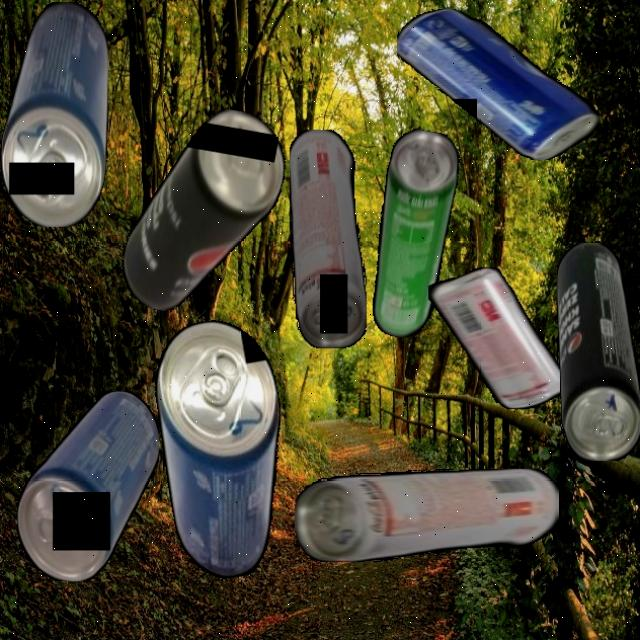debris: (142, 312, 308, 585), (115, 96, 294, 327), (397, 8, 599, 160), (16, 390, 159, 581), (295, 468, 559, 562), (0, 1, 108, 227), (359, 126, 465, 342), (427, 267, 566, 409), (556, 242, 640, 461), (288, 129, 366, 348)
